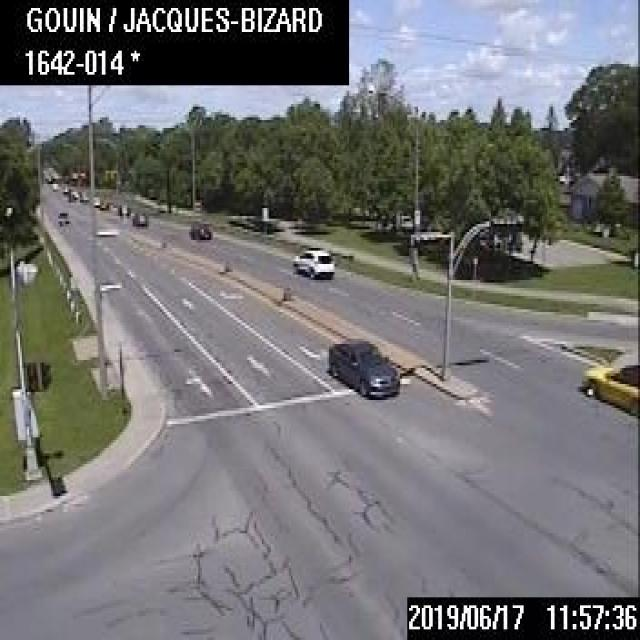vehicle: (326, 336, 398, 396), (580, 362, 638, 415), (291, 247, 333, 277), (188, 222, 210, 238), (129, 211, 144, 224), (56, 209, 69, 223), (116, 200, 129, 213), (98, 200, 108, 207), (93, 195, 99, 203)
